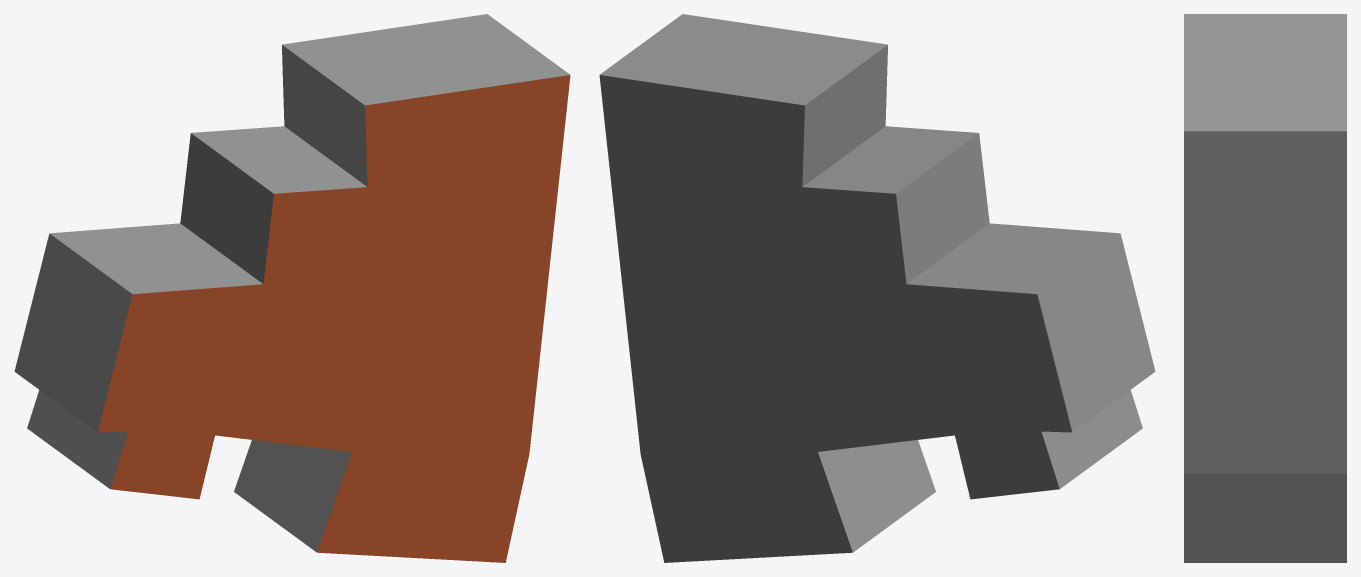
The model's file is construction_1222_assumed_A_Casa_h6m.obj.
3 renders of one model, left to right at view 1: azimuth 30°, elevation 25°; view 2: azimuth 150°, elevation 25°; view 3: azimuth 270°, elevation 25°, orthographic. The views are drawn at different scales.
Visible parts, largest first — view 1: construction_1222_assumed_A_Casa; view 2: construction_1222_assumed_A_Casa; view 3: construction_1222_assumed_A_Casa.
Boxes of the visible parts, bbox=[...] form: construction_1222_assumed_A_Casa: bbox=[14, 14, 570, 562]; construction_1222_assumed_A_Casa: bbox=[599, 14, 1155, 562]; construction_1222_assumed_A_Casa: bbox=[1184, 14, 1346, 562].
Size of the model in its own units: 19.69 by 19.57 by 6.
